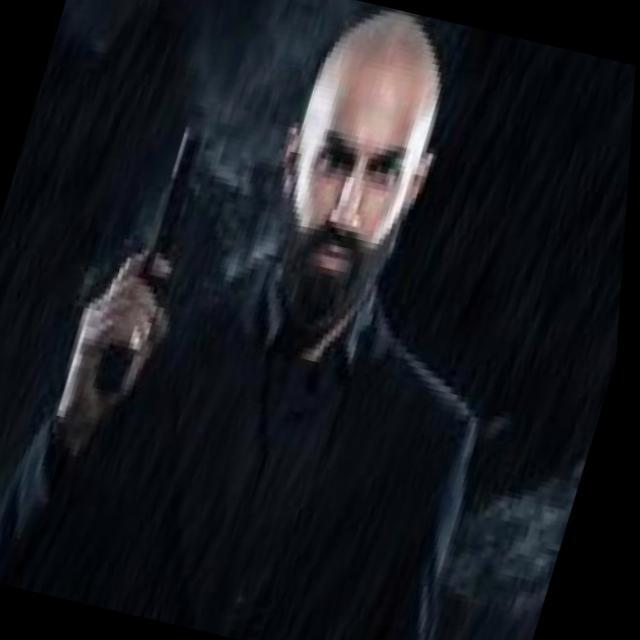weapon: (58, 109, 238, 419)
